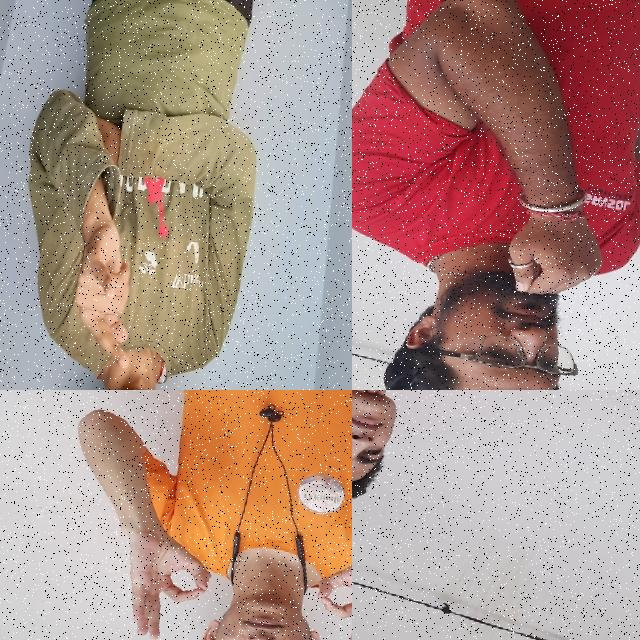Chin Flick: (370, 168, 617, 390), (352, 390, 437, 522)
Corna: (60, 195, 160, 372)
Okay: (110, 513, 222, 640), (301, 542, 352, 640)
